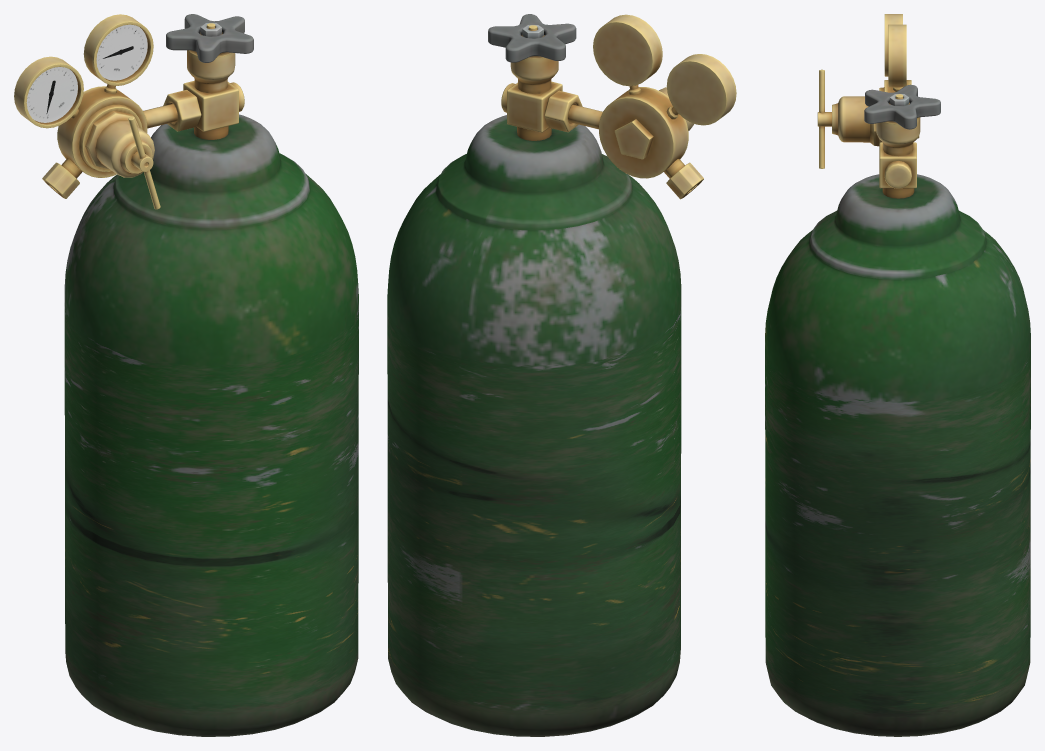
The model's file is oxygen_cylinder.fbx.
3 renders of one model, left to right at view 1: azimuth 30°, elevation 25°; view 2: azimuth 150°, elevation 25°; view 3: azimuth 270°, elevation 25°, orthographic. The views are drawn at different scales.
Parts seen in each view (by area): view 1: oxygen_cylinder; view 2: oxygen_cylinder; view 3: oxygen_cylinder.
Part boxes in pixels (x1,y1,x2,y2): oxygen_cylinder: [14, 14, 358, 736]; oxygen_cylinder: [387, 14, 736, 736]; oxygen_cylinder: [765, 14, 1030, 736].
Bounding box in the file's own units: 0.275 × 0.56 × 0.2176.
1 material, 1 textured.
